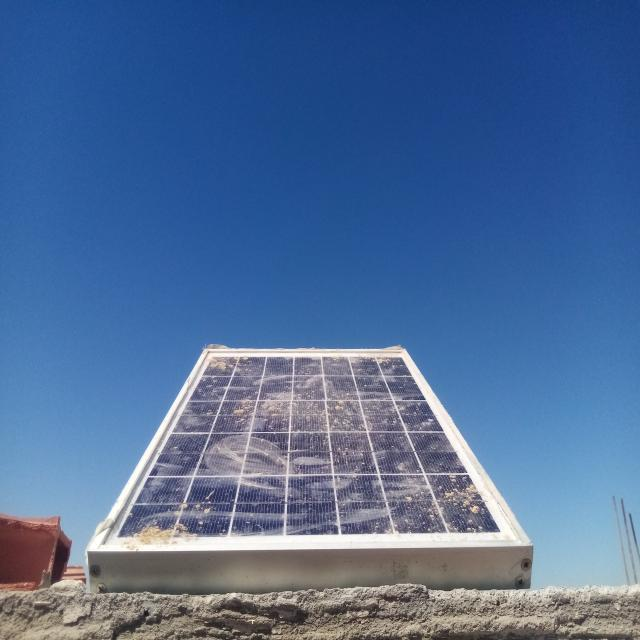faulty: (92, 345, 526, 554)
